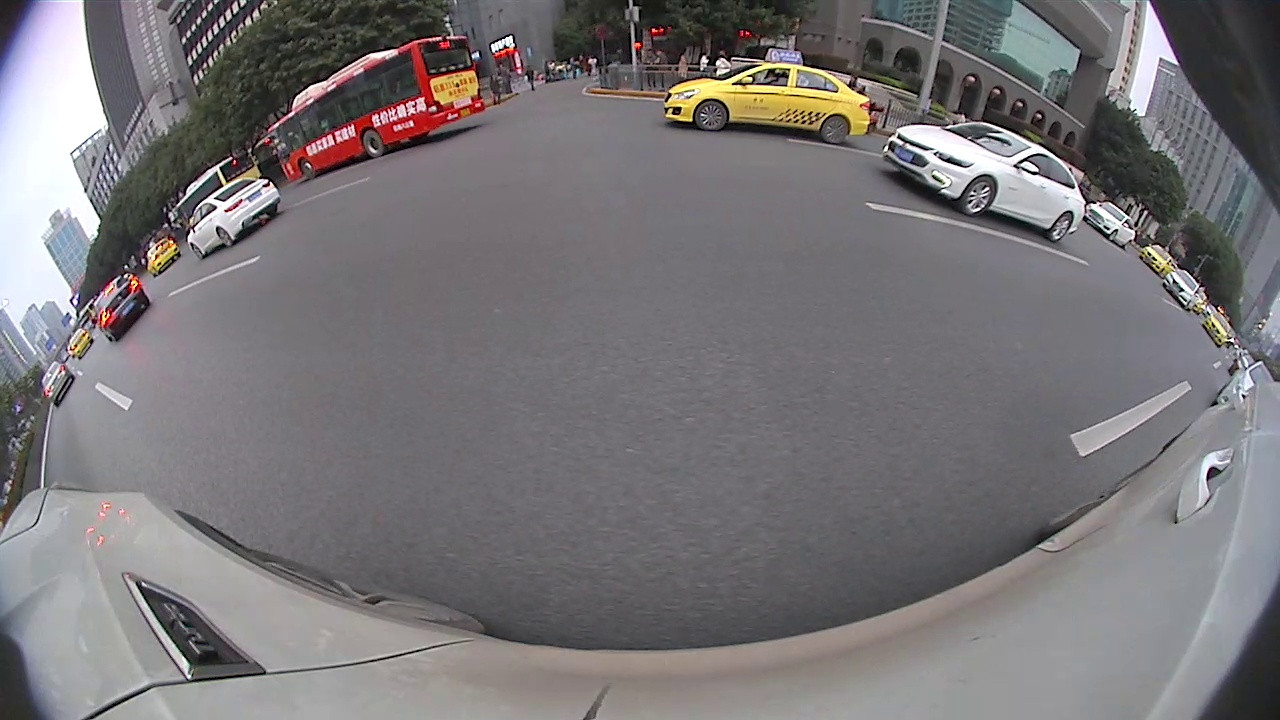bus: (265, 34, 484, 184), (174, 152, 268, 237)
car: (881, 121, 1083, 245), (662, 63, 871, 145), (187, 177, 282, 260), (94, 273, 151, 344), (1082, 202, 1137, 254), (40, 359, 76, 407), (1162, 270, 1199, 314), (146, 238, 181, 280), (1139, 244, 1176, 278)
front: (964, 177, 994, 214), (698, 100, 726, 130), (301, 159, 316, 178), (191, 243, 204, 259)
rear: (824, 115, 848, 144), (1050, 213, 1073, 240), (365, 130, 381, 157), (218, 227, 233, 247)
